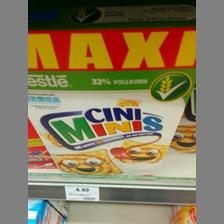Cerealien: (25, 27, 194, 177)
